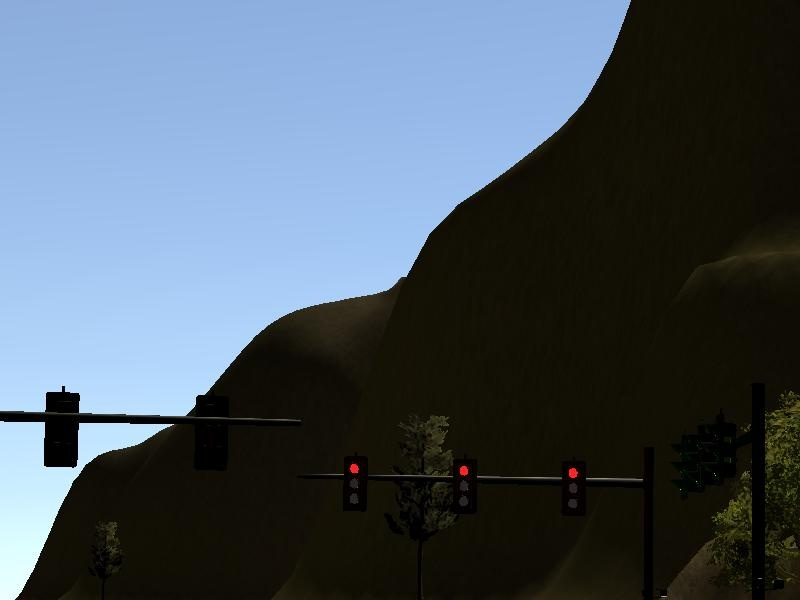RED: (343, 458, 365, 513), (452, 458, 474, 513), (562, 459, 584, 514)
